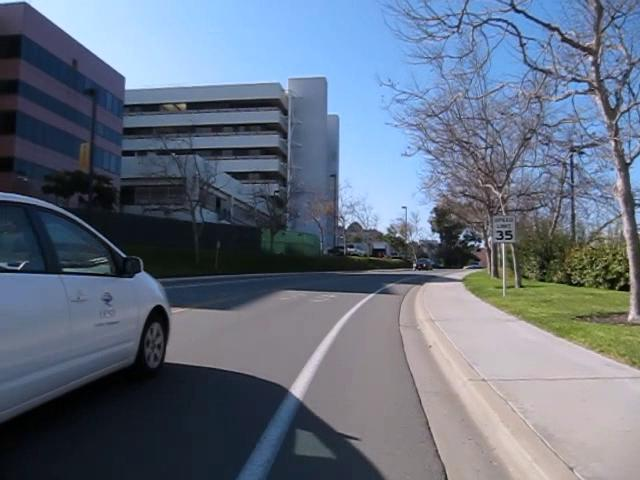speedLimit35: (492, 213, 516, 243)
